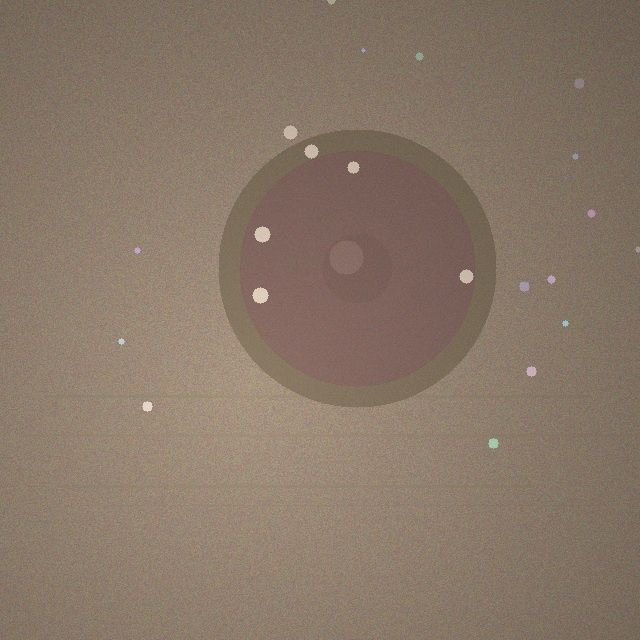overburn: (218, 129, 496, 407)
